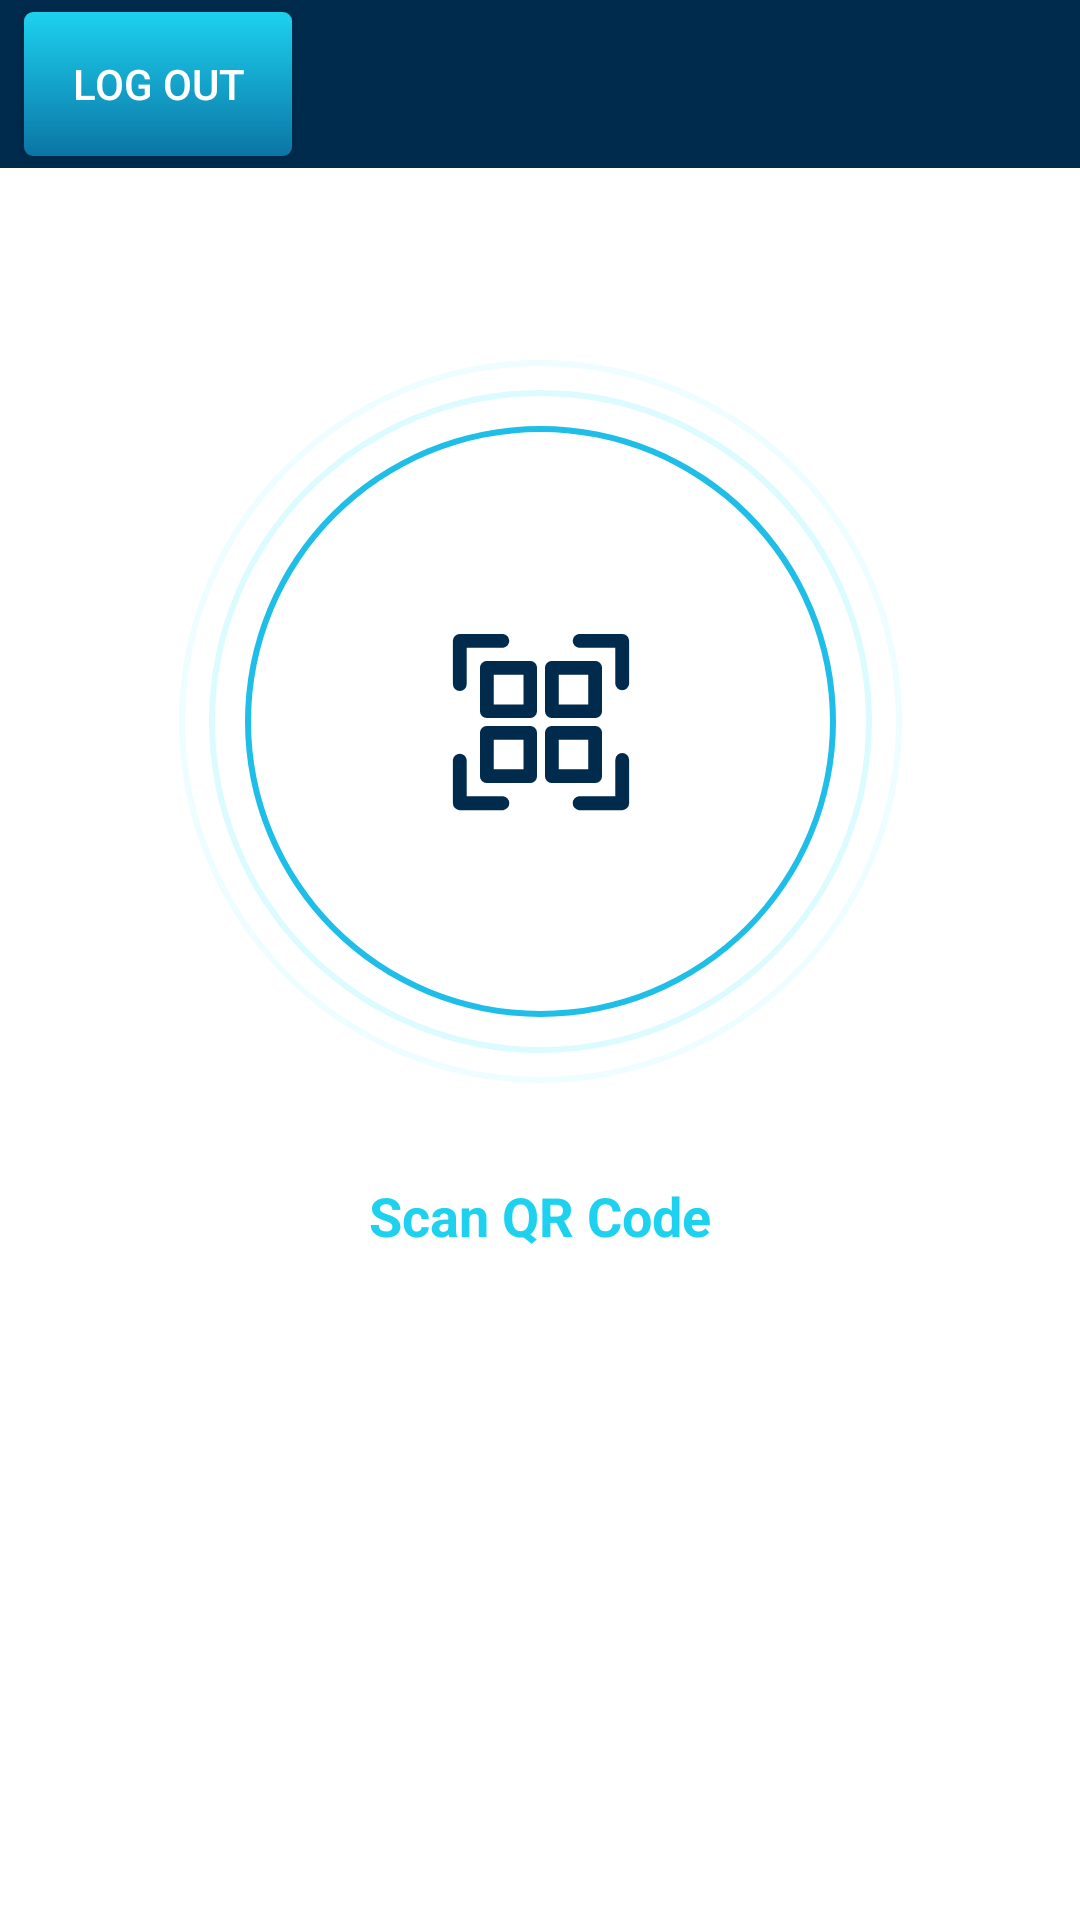

Named icons in this screenshot (1080px x 1920px) and their bounding boxes, Rect(x1, y1, x2, y2):
qr rect: Rect(452, 634, 630, 811)
